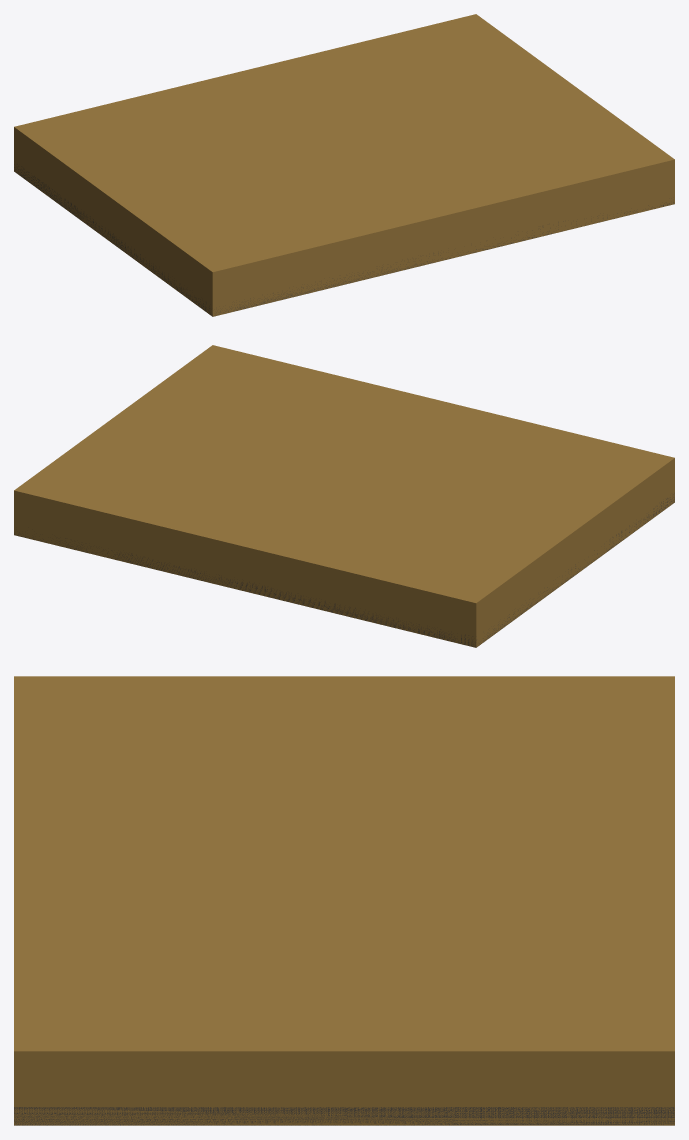
Rendered from cab_roof.glb.
The picture shows the model from 3 angles, top to bottom: view 1: azimuth 30°, elevation 25°; view 2: azimuth 150°, elevation 25°; view 3: azimuth 270°, elevation 25°; orthographic projection. The views are drawn at different scales.
Parts seen in each view (by area): view 1: cab_roof; view 2: cab_roof; view 3: cab_roof.
Boxes of the visible parts, x1,y1,x2,y2 form: cab_roof: (14,14,674,316); cab_roof: (14,345,674,647); cab_roof: (14,676,674,1125).
Size of the model in its own units: 0.65 by 0.06 by 0.484.
